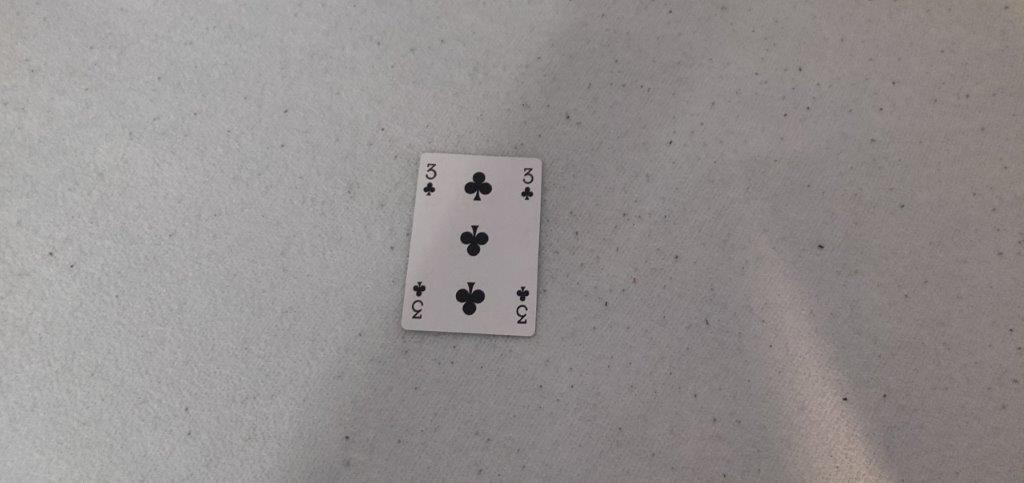3C: (420, 160, 441, 200), (520, 164, 536, 201)
